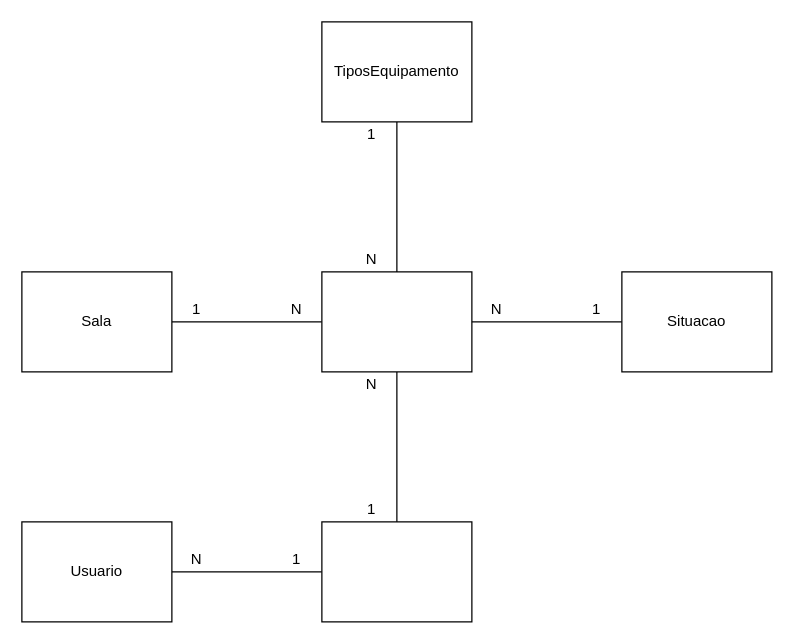
Image size: 794x644. Some labels were removed from this diagram. Here are the shapes that lost their labels. From the top down, the centre of each, then its label:
pixel 396 321: Equipamento
pixel 396 571: Exibicao
